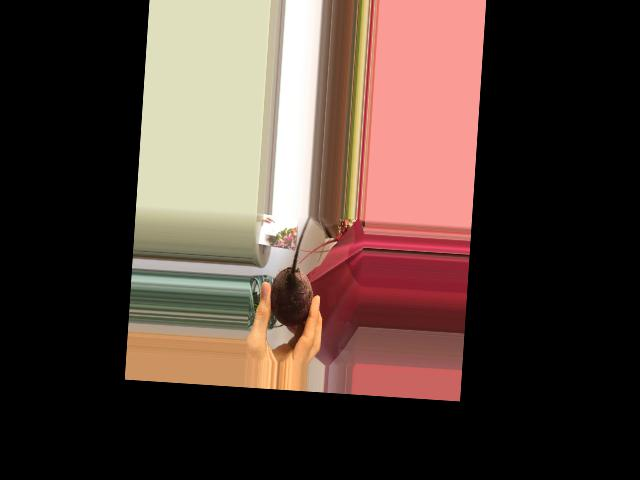beet: (268, 213, 318, 328)
